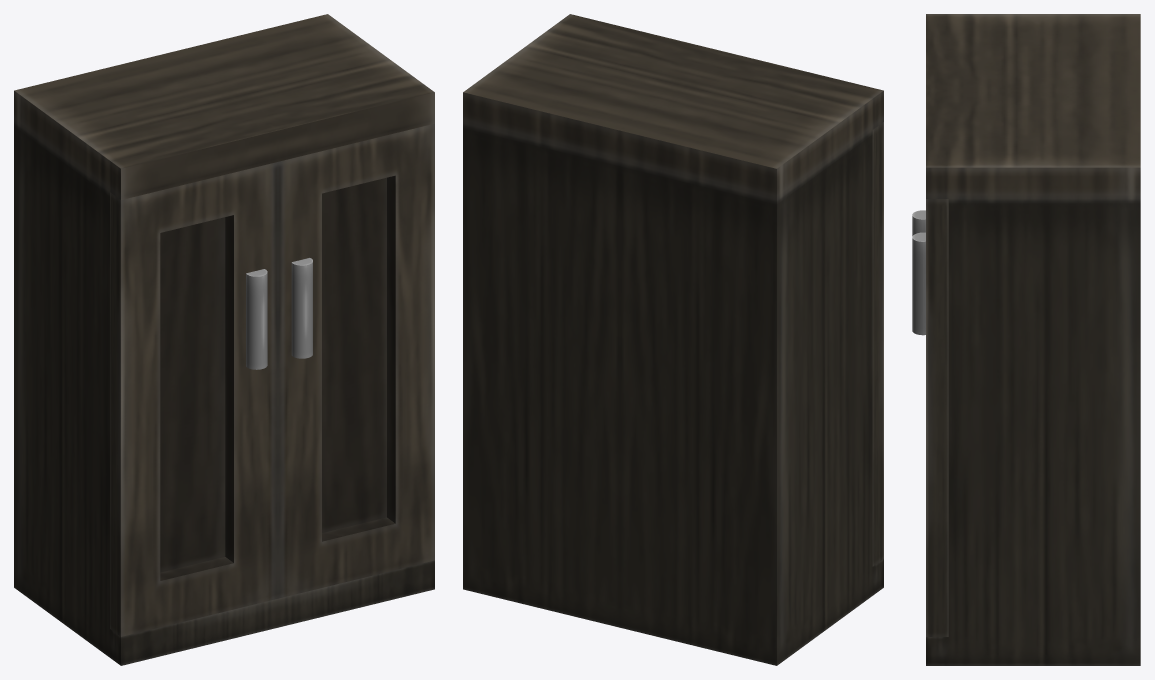
Rendered from ColonialCabinet_HD.fbx.
3 views of the same model, side by side, from view 1: azimuth 30°, elevation 25°; view 2: azimuth 150°, elevation 25°; view 3: azimuth 270°, elevation 25° (orthographic).
Parts seen in each view (by area): view 1: ColonialCabinet; view 2: ColonialCabinet; view 3: ColonialCabinet.
Part boxes in pixels (x1,y1,x2,y2): ColonialCabinet: (14, 14, 434, 665); ColonialCabinet: (463, 14, 883, 665); ColonialCabinet: (912, 14, 1140, 665).
Size of the model in its own units: 0.9801 by 1.48 by 0.6158.
